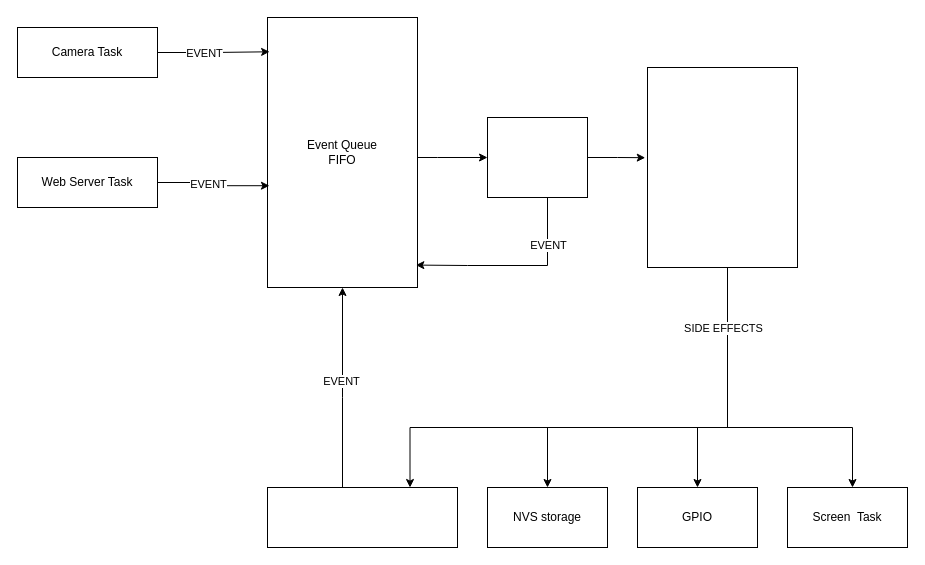
Some shapes in this 925 by 565 pixel diagram are drawn without their labels. The shapes that lost their labels are listed below. From the top down, each one's box as (x1, y1, x2, y2) in pixels, then its label:
(486, 116, 588, 198): Main Loop
(646, 66, 798, 268): State Machine
(266, 486, 458, 548): Networking
